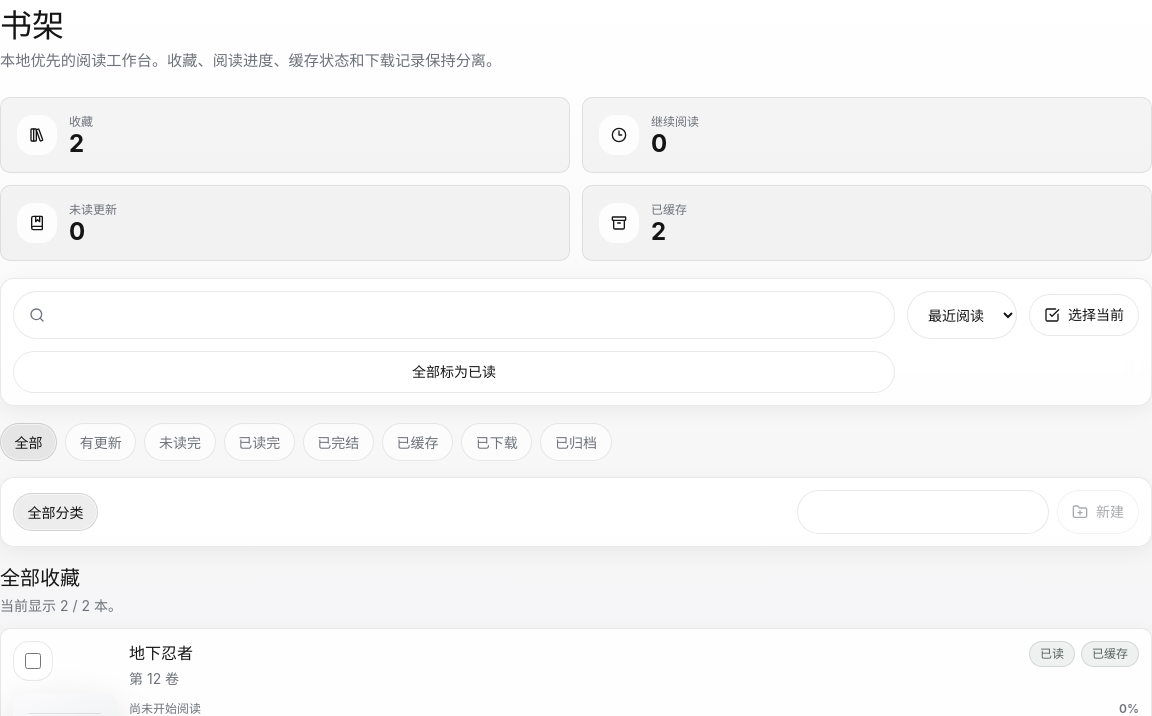
it: ShelfPage › deletes selected local reading data through the shared deletion flow
Click the button "选择当前". click: click(1084, 315)
box: [1029,294,1139,336]
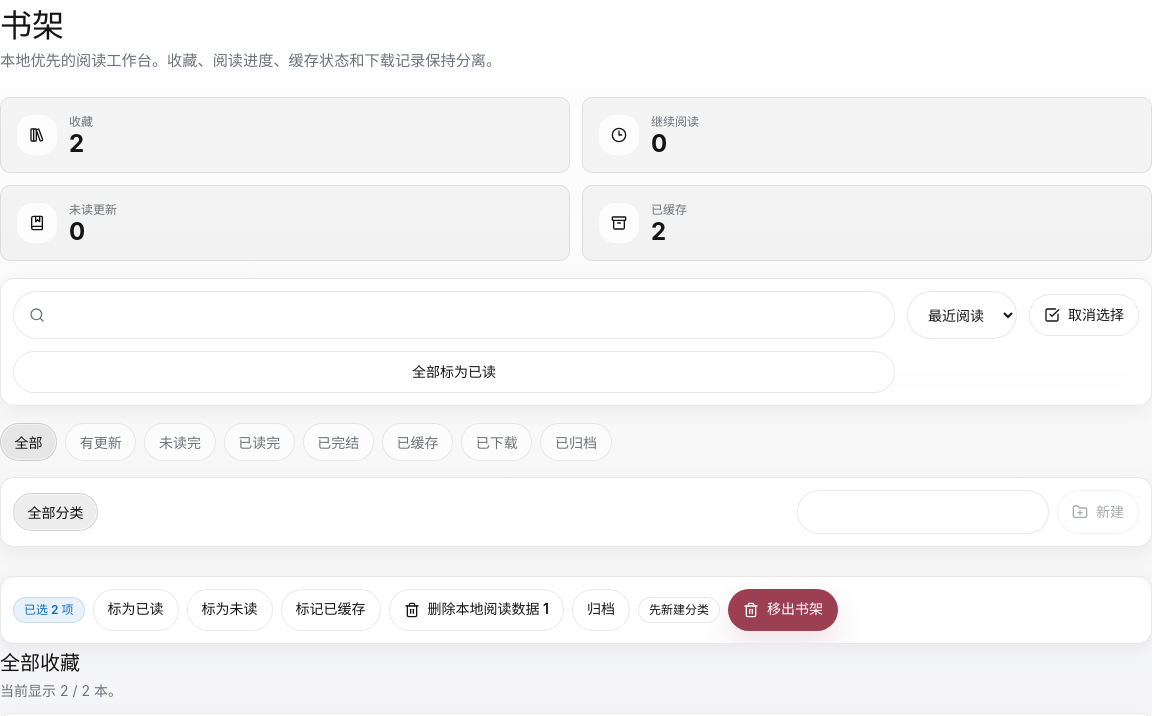
Click the button "删除本地阅读数据 1". click: click(476, 610)
box: [388,589,564,631]
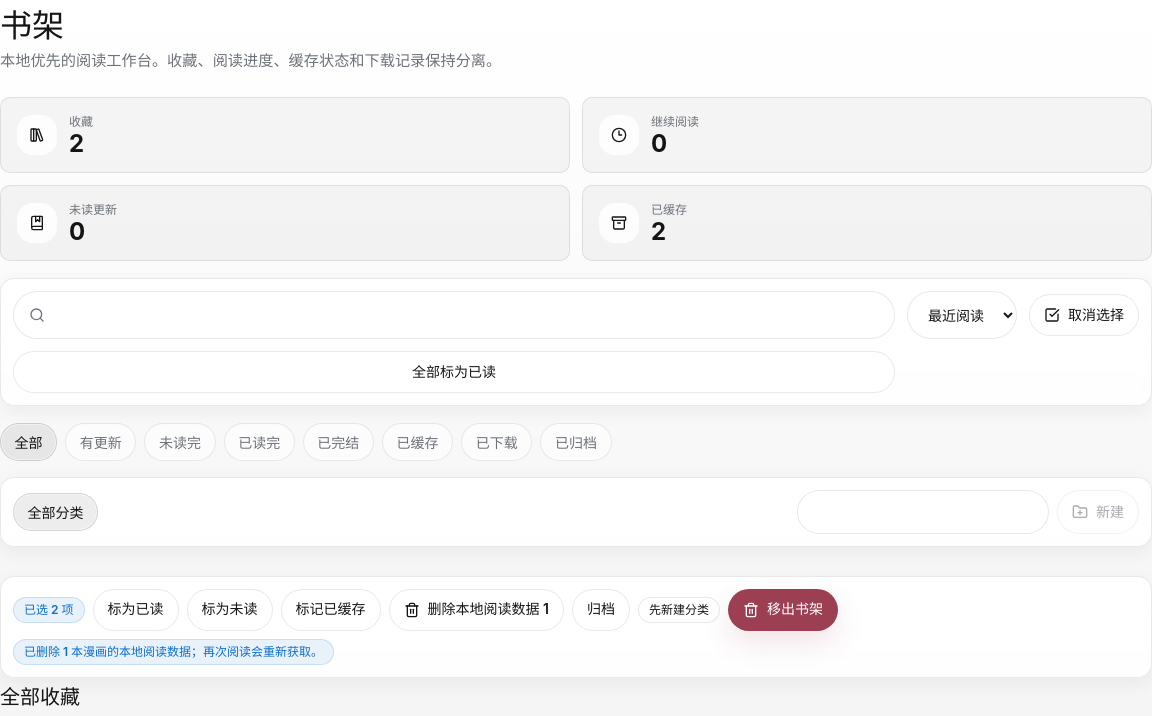
Expected: the text "已删除 1 本漫画的本地阅读数据；再次阅读会重新获取。" is shown, [13,639,334,665]
